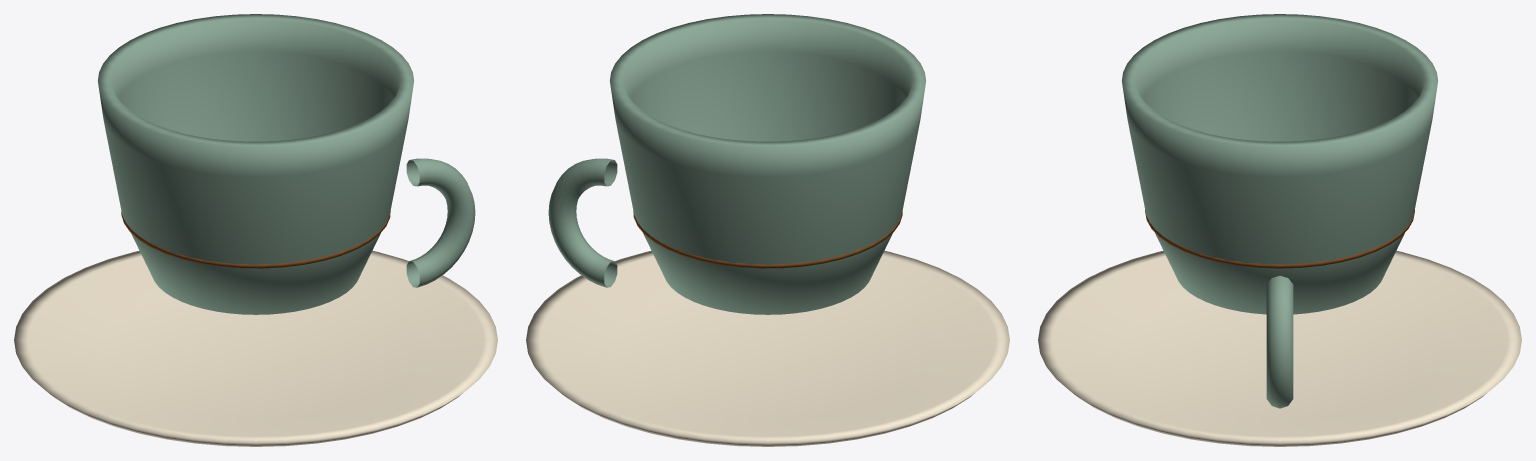
File: teacup.glb
3 views of the same model, side by side, from view 1: azimuth 30°, elevation 25°; view 2: azimuth 150°, elevation 25°; view 3: azimuth 270°, elevation 25° (orthographic).
Parts seen in each view (by area): view 1: Cup, Saucer, CupHandle, Tea; view 2: Cup, Saucer, CupHandle, Tea; view 3: Cup, Saucer, CupHandle, Tea.
Part boxes in pixels (x1=…): Cup: x1=98, y1=14, x2=413, y2=314; Saucer: x1=14, y1=250, x2=497, y2=446; CupHandle: x1=406, y1=158, x2=475, y2=287; Tea: x1=121, y1=211, x2=390, y2=268; Cup: x1=610, y1=14, x2=925, y2=314; Saucer: x1=526, y1=250, x2=1009, y2=446; CupHandle: x1=548, y1=158, x2=617, y2=287; Tea: x1=633, y1=211, x2=902, y2=268; Cup: x1=1122, y1=14, x2=1437, y2=314; Saucer: x1=1038, y1=250, x2=1521, y2=446; CupHandle: x1=1266, y1=275, x2=1293, y2=408; Tea: x1=1145, y1=210, x2=1414, y2=268.
Size of the model in its own units: 0.212 by 0.135 by 0.208.
